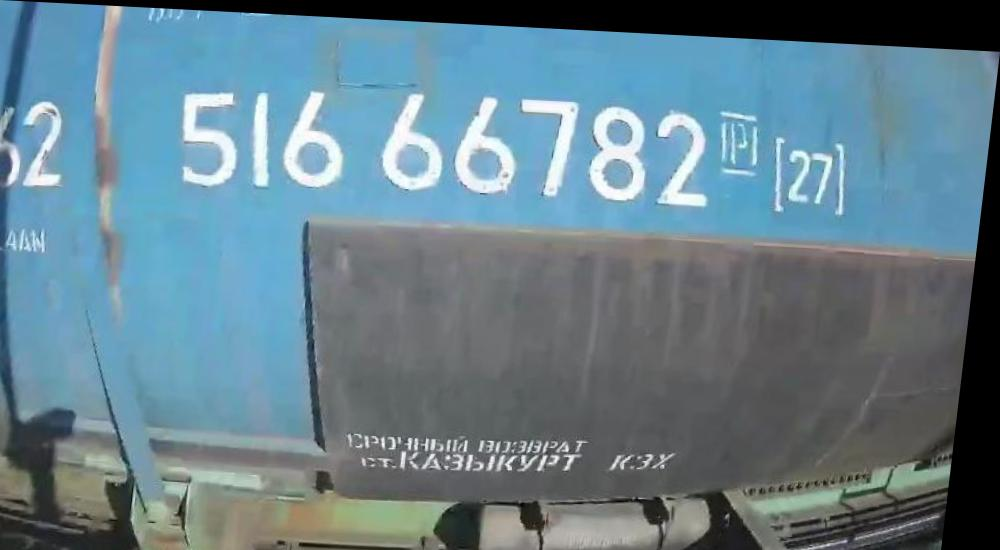Wagon-number: (164, 73, 724, 211)
